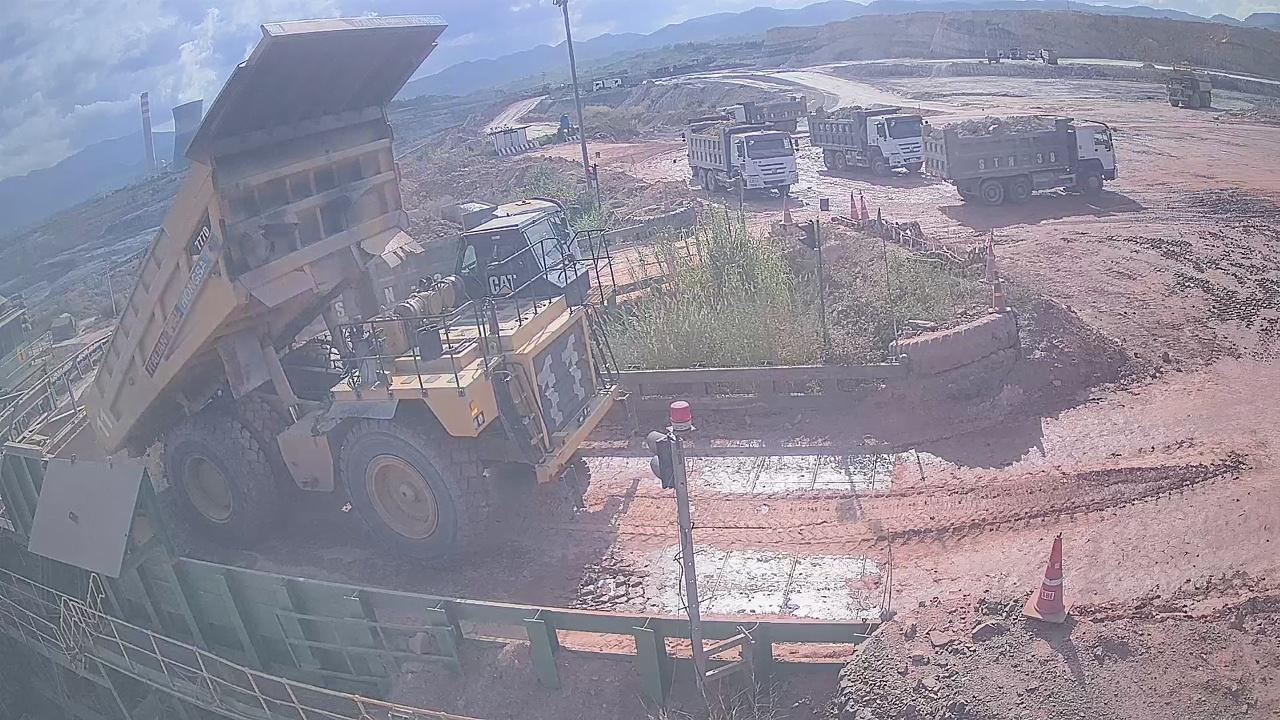company: (139, 260, 211, 381)
dumping_soil: (80, 13, 638, 573)
front_number: (529, 327, 602, 433)
tail_number: (91, 407, 118, 440)
truck_size: (186, 216, 217, 259)
